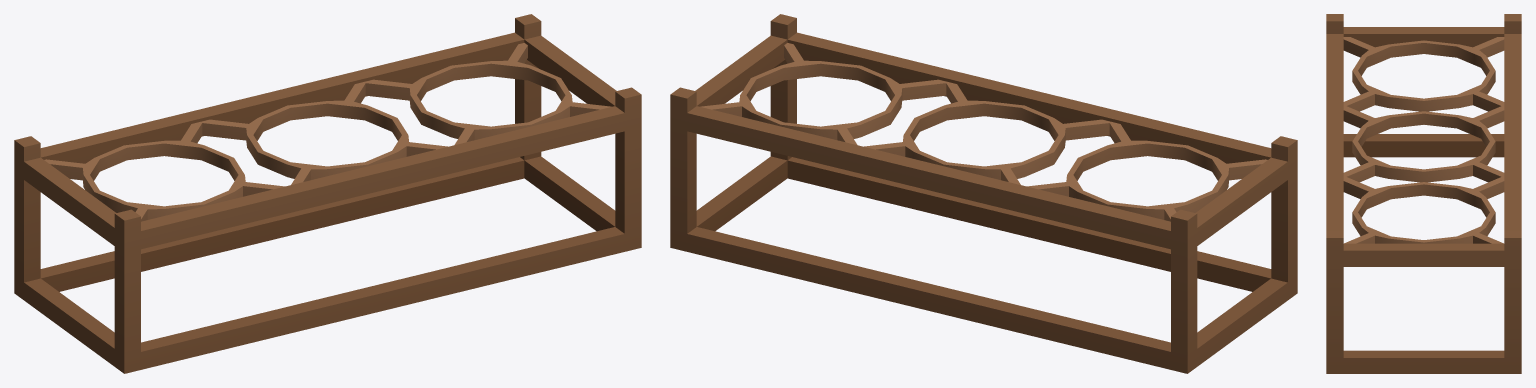
Rendered from PotionBottleHolder2.fbx.
3 views of the same model, side by side, from view 1: azimuth 30°, elevation 25°; view 2: azimuth 150°, elevation 25°; view 3: azimuth 270°, elevation 25° (orthographic). The views are drawn at different scales.
Parts seen in each view (by area): view 1: PotionBottleHolder2; view 2: PotionBottleHolder2; view 3: PotionBottleHolder2.
Part boxes in pixels (x1,y1,x2,y2): PotionBottleHolder2: [14, 14, 641, 373]; PotionBottleHolder2: [670, 14, 1297, 373]; PotionBottleHolder2: [1326, 14, 1521, 373].
Bounding box in the file's own units: 48.04 × 13.61 × 17.7.
